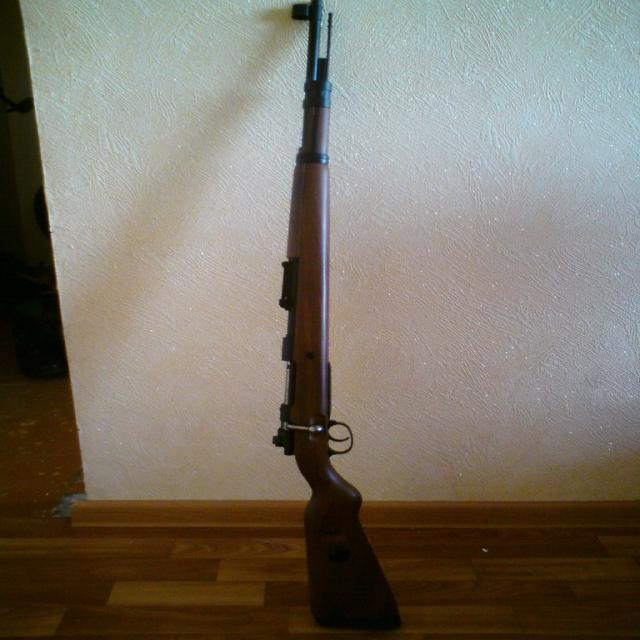firearm: (270, 0, 403, 633)
